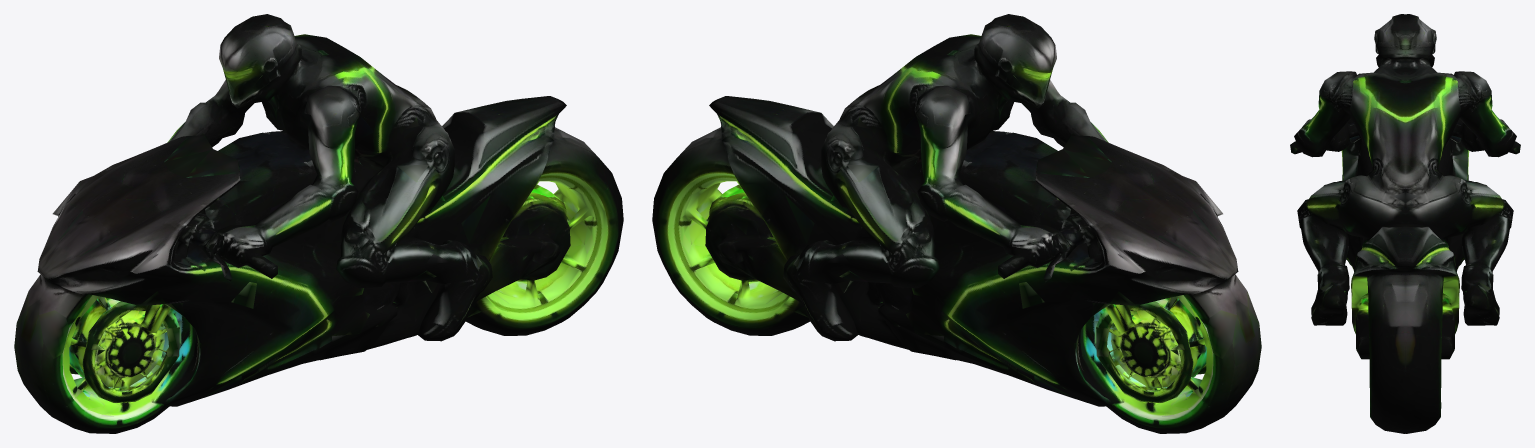
The model's file is motorcycle-opt.glb.
3 renders of one model, left to right at view 1: azimuth 30°, elevation 25°; view 2: azimuth 150°, elevation 25°; view 3: azimuth 270°, elevation 25°, orthographic. The views are drawn at different scales.
Visible parts, largest first — view 1: Mesh_0; view 2: Mesh_0; view 3: Mesh_0.
Part boxes in pixels (x1=…): Mesh_0: x1=14, y1=14, x2=623, y2=433; Mesh_0: x1=652, y1=14, x2=1261, y2=433; Mesh_0: x1=1290, y1=14, x2=1520, y2=433.
Size of the model in its own units: 1.91 by 1.15 by 0.7915.
1 material, 1 textured.
